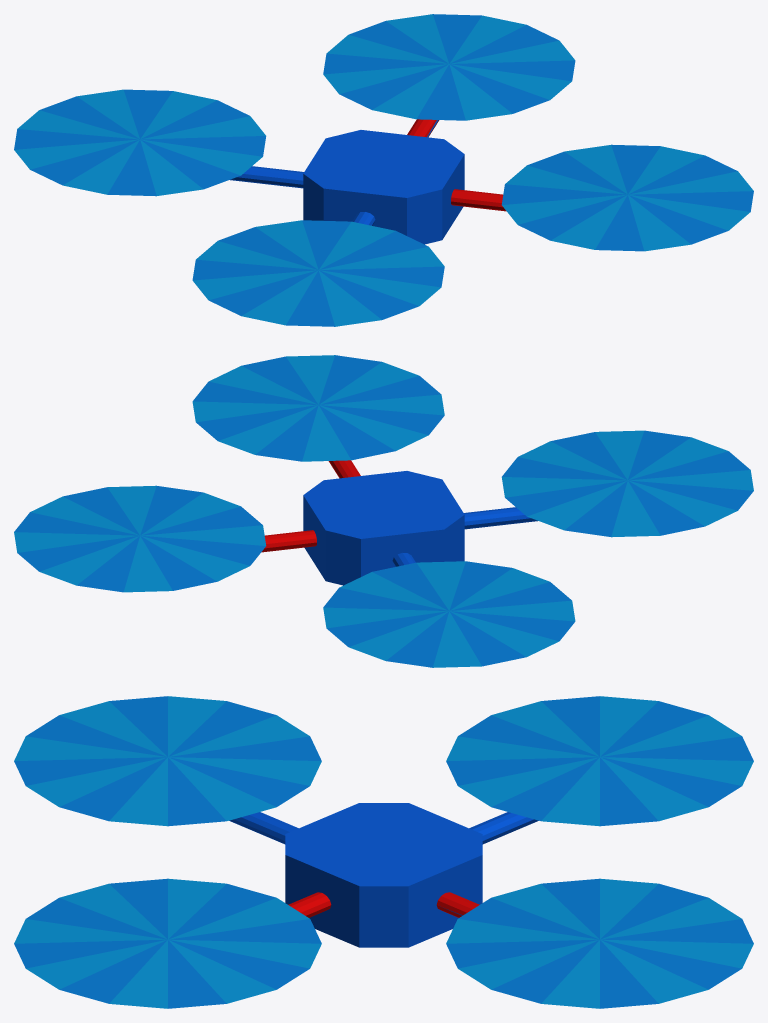
File: quadcopter.dae
3 renders of one model, top to bottom at view 1: azimuth 30°, elevation 25°; view 2: azimuth 150°, elevation 25°; view 3: azimuth 270°, elevation 25°, orthographic. The views are drawn at different scales.
Visible parts, largest first — view 1: QuadrotorMainBody; view 2: QuadrotorMainBody; view 3: QuadrotorMainBody.
Boxes of the visible parts, <box> form: QuadrotorMainBody: <box>14,14,753,326</box>; QuadrotorMainBody: <box>14,355,753,667</box>; QuadrotorMainBody: <box>14,696,753,1008</box>.
Size of the model in its own units: 1 by 1 by 0.0917.
